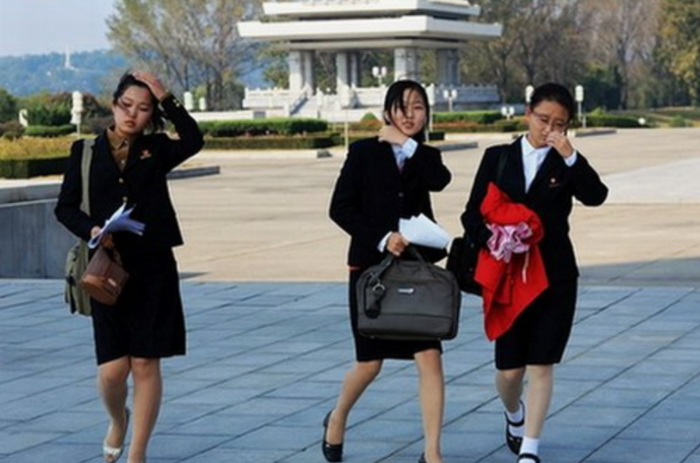no_mask: (523, 82, 576, 156), (109, 67, 161, 140), (378, 82, 431, 141)
